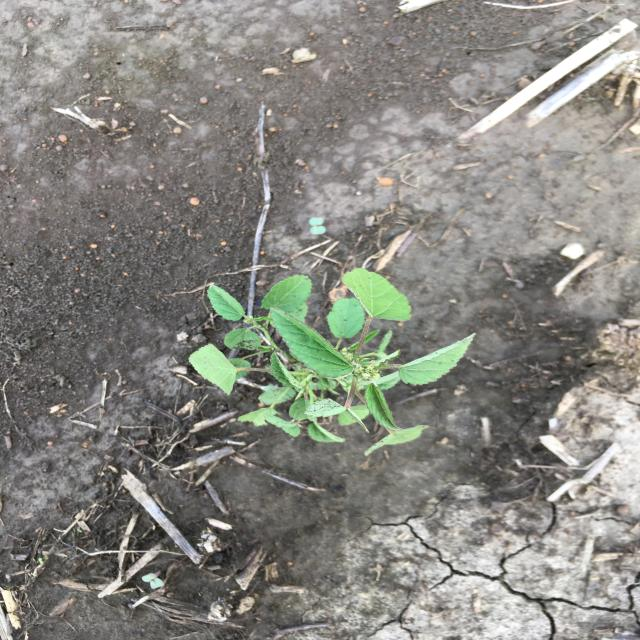PricklySida: (186, 268, 477, 458)
